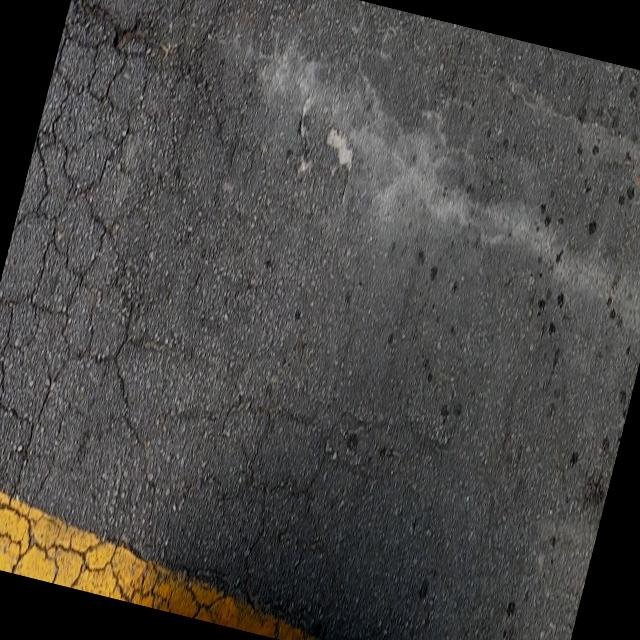Retak-Buaya: (0, 0, 239, 621)
